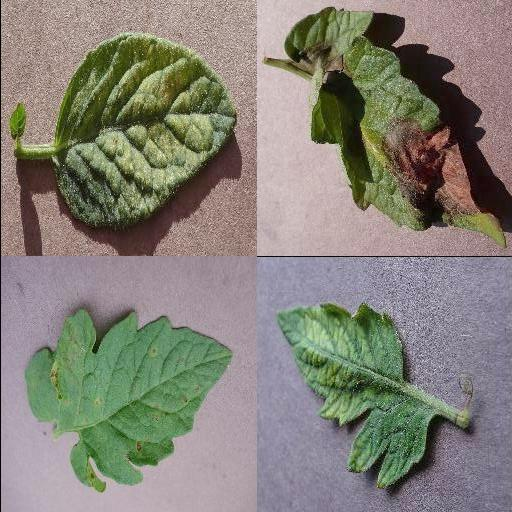Late Blight: (282, 6, 504, 248)
Mosaic Virus: (271, 301, 431, 487)
Septoria: (22, 308, 232, 494)
Spider Mites: (49, 35, 237, 231)
